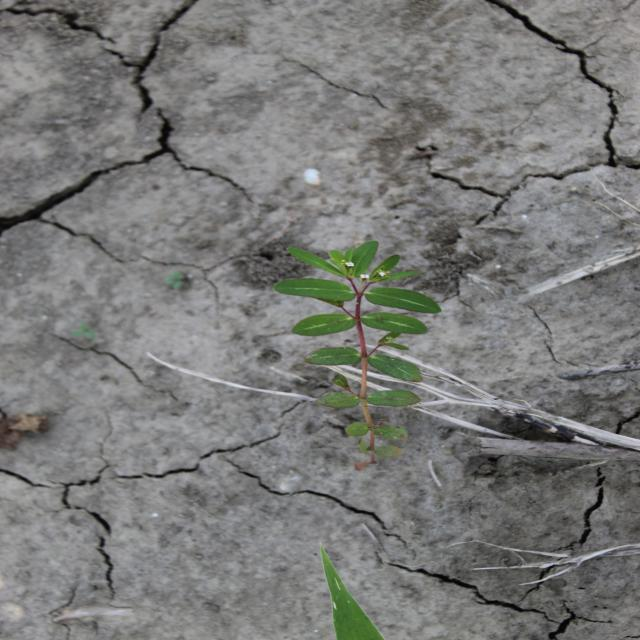SpottedSpurge: (274, 240, 444, 468)
